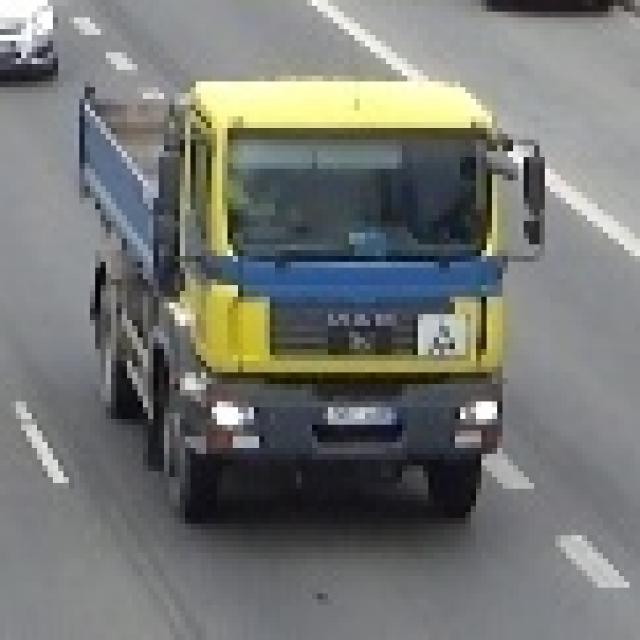Truck: (69, 64, 539, 524)
